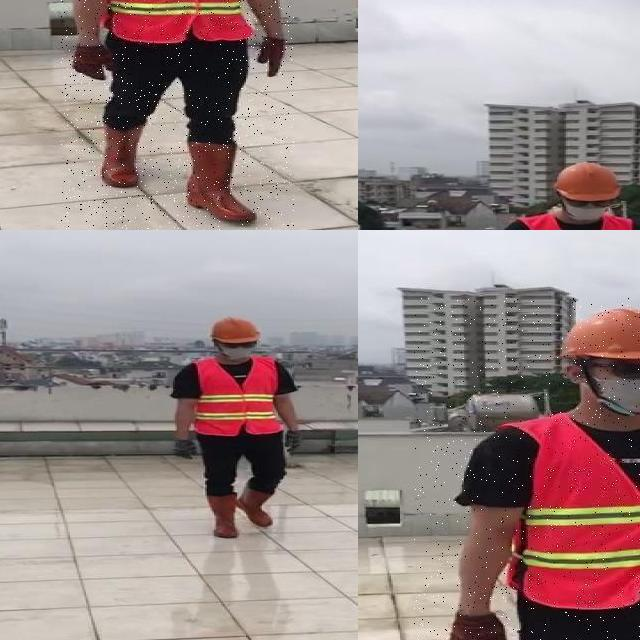BOOTS: (182, 141, 257, 222), (98, 120, 143, 189), (201, 494, 239, 539), (237, 485, 276, 528)
GLASS: (586, 356, 640, 381), (218, 341, 256, 349)
GLOVE: (446, 608, 513, 640), (72, 44, 120, 82), (256, 36, 288, 78), (173, 440, 199, 460), (284, 430, 301, 456)
HELMET: (556, 305, 640, 366), (550, 160, 628, 206), (203, 315, 264, 346)
VEST: (516, 418, 640, 608), (195, 358, 286, 435), (102, 0, 253, 42)
